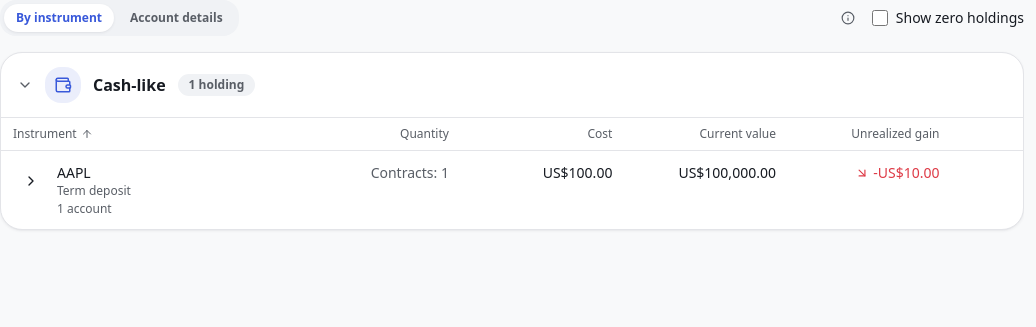
Scenario: HoldingGroupsList › labels cash-like contract quantity as contracts, including an authoritative zero
Expected: the table with test id "holdings-table" shows "Contracts: 1", [371,163,449,182]
Click the checkbox at (880, 18), box [872,10,888,26]
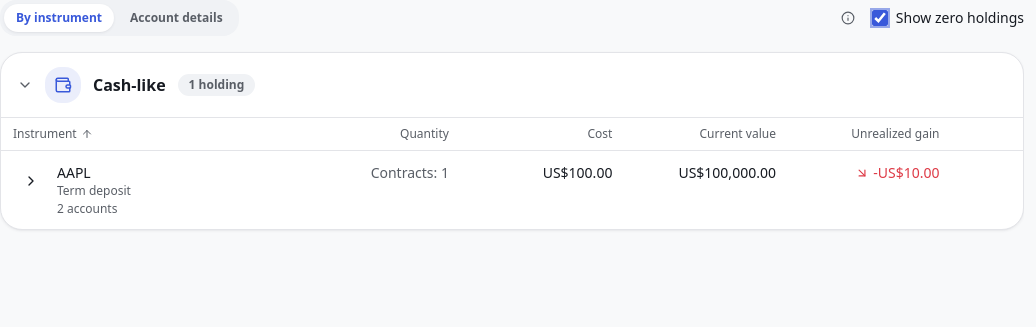
Click the button "Account details" at (176, 18), box [118,4,235,32]
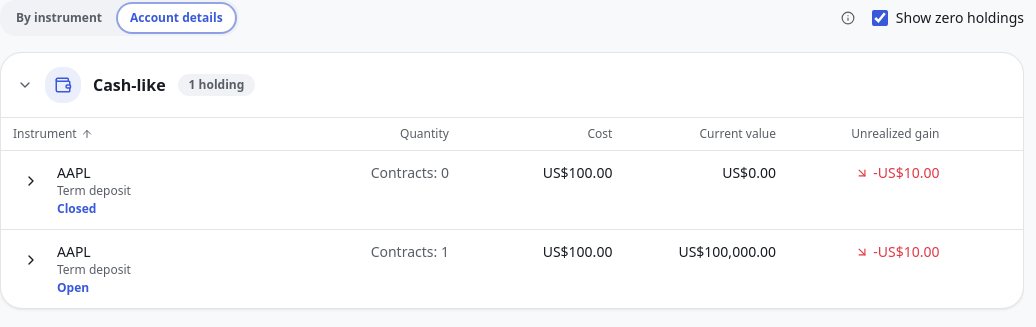
Result: the table with test id "holdings-table" shows "Contracts: 0" at [371,163,449,182]
